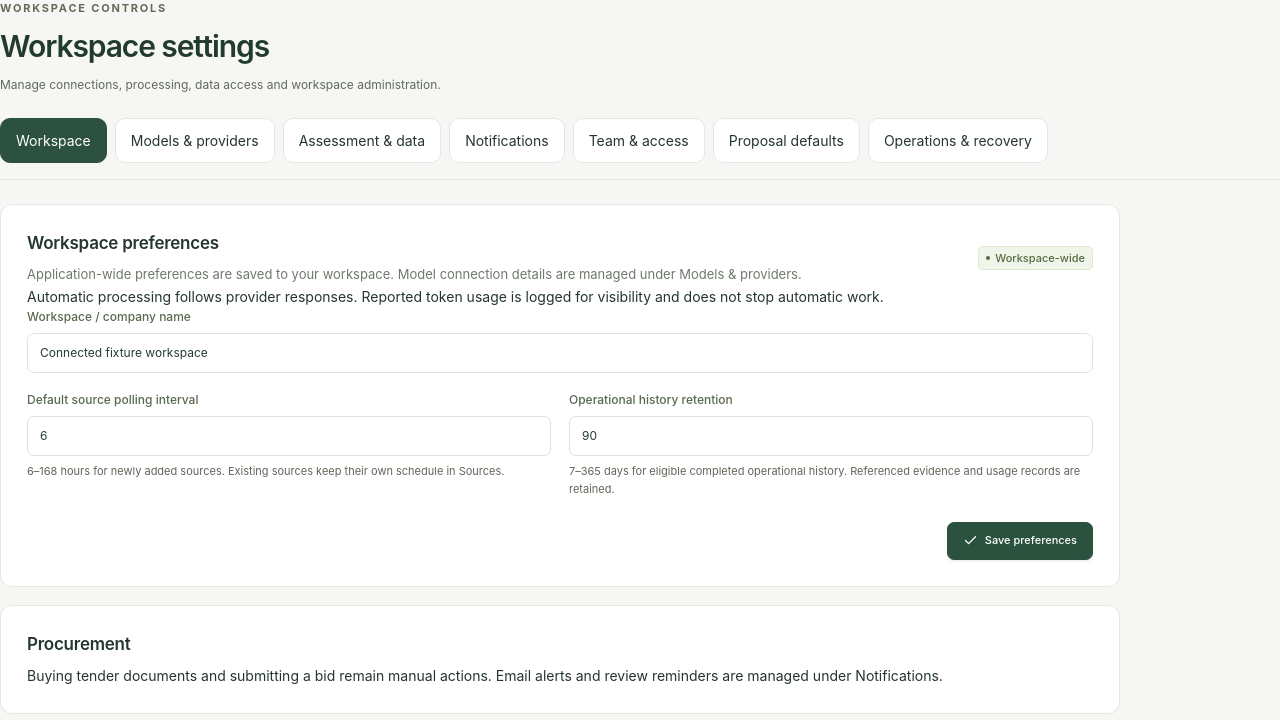
connected screens › keeps entered values and reports failure without a successful-save toast or local storage
Replace the text in the field labelled "Workspace / company name" with "Keep my changes" at (560, 353), box [27,333,1093,373]
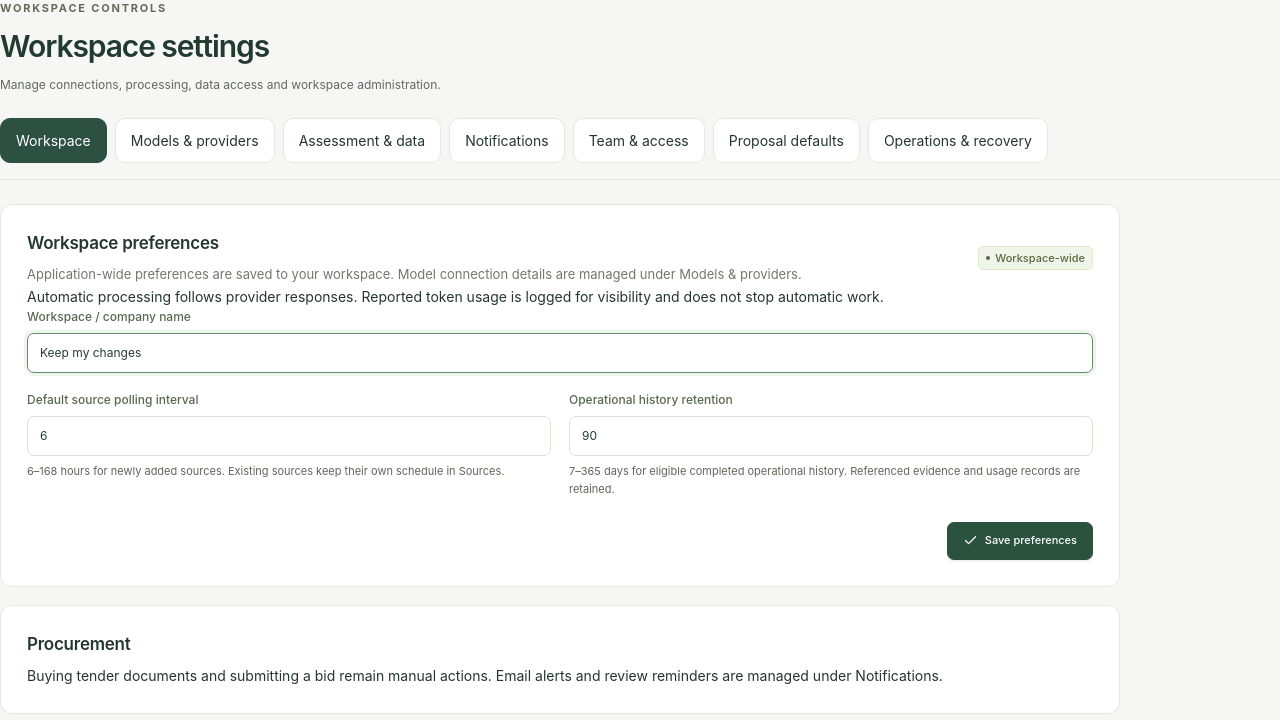
Click the button "Save preferences" at (1020, 541), box [947,522,1093,560]
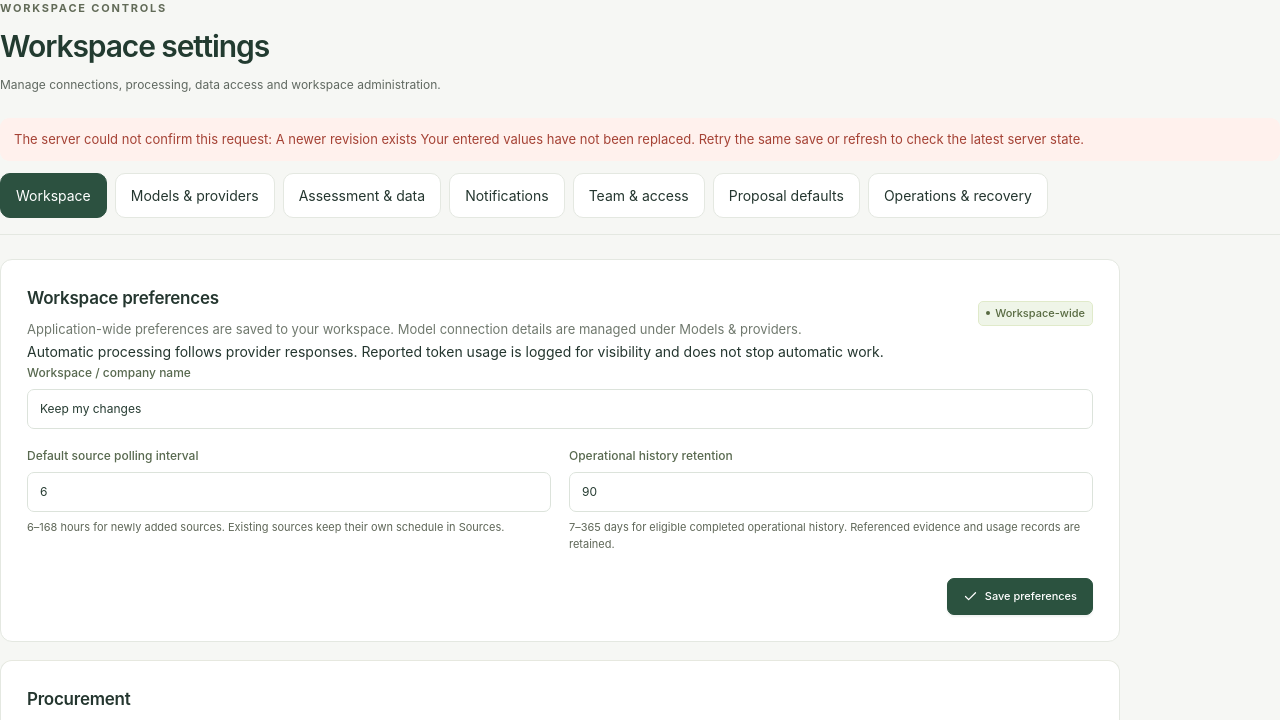
Result: the text "A newer revision exists" is shown at [276,131,1084,147]
